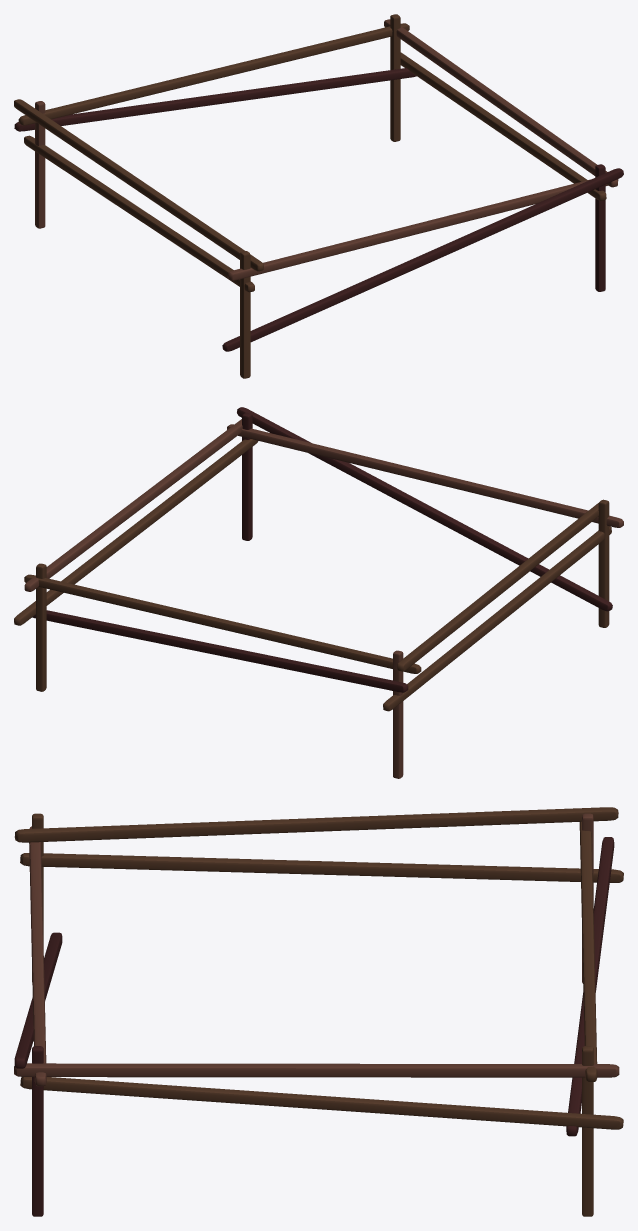
File: RockFence.obj
3 renders of one model, top to bottom at view 1: azimuth 30°, elevation 25°; view 2: azimuth 150°, elevation 25°; view 3: azimuth 270°, elevation 25°, orthographic. The views are drawn at different scales.
Bounding box in the file's own units: 51.08 × 15.5 × 51.02.
